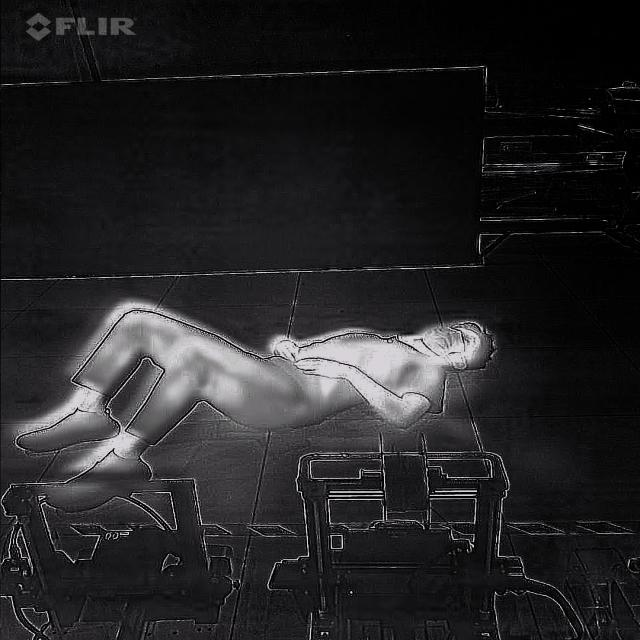Victim: (7, 309, 527, 516)
